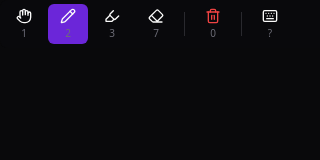
AnnotationToolbar › tooltips (AC-4.6.5) › shows tooltip on hover for Clear All (host only)
The width and height of the screenshot is (320, 160).
Hover over the button with test id "tool-button-clear-all": point(213, 24) [193,4,233,44]
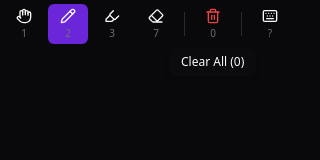
Check: the tooltip reads "Clear All (0)", box [181,53,244,70]
